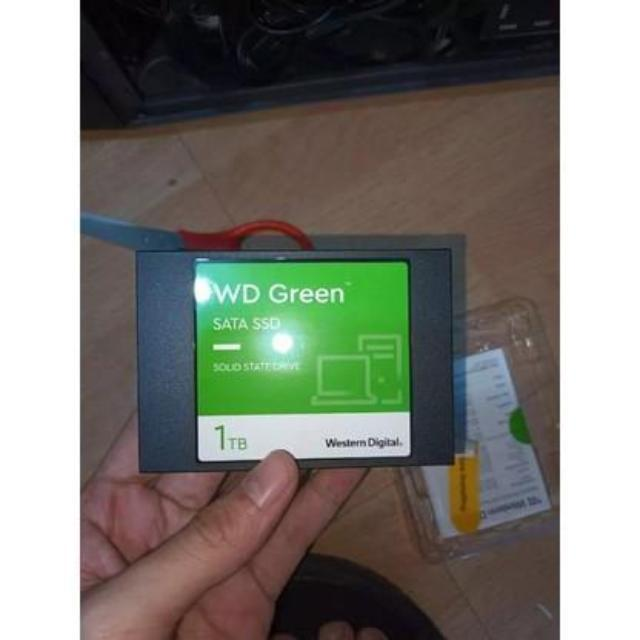DISK: (131, 246, 454, 468)
